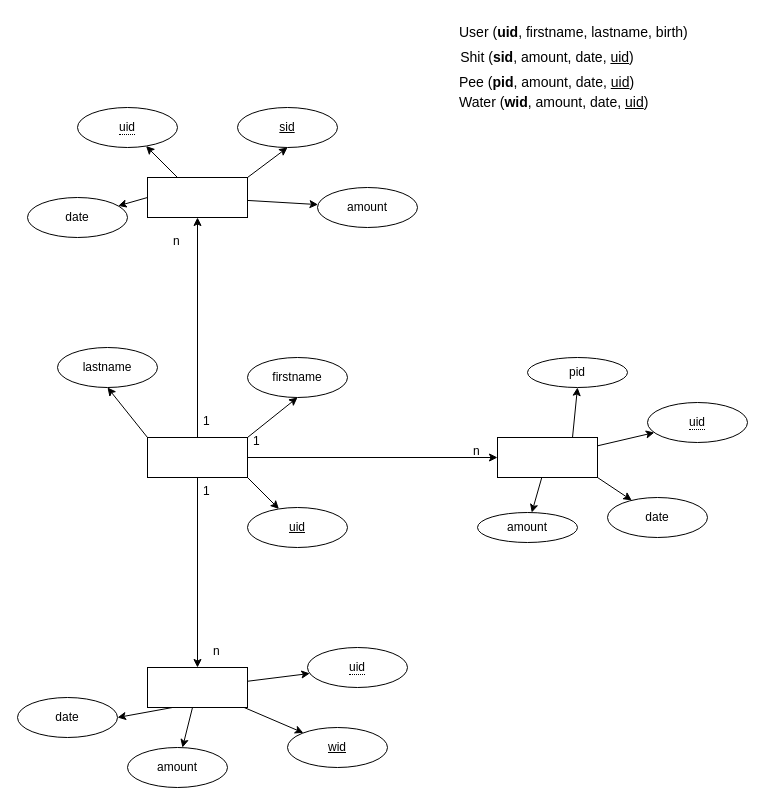
Image size: 765x805. Some labels were removed from this diagram. Each missing label, with the centre of its shape:
"Pee" goes at point 547,457.
"Shit" goes at point 197,197.
"User" goes at point 197,457.
"Water" goes at point 197,687.
